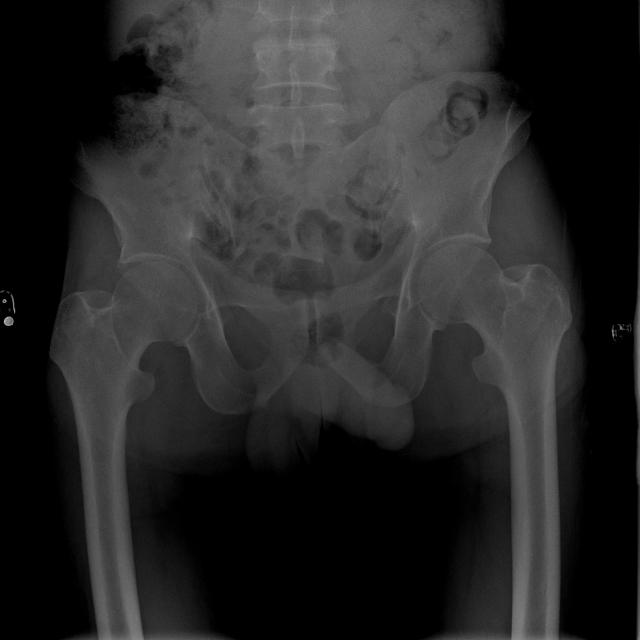normal-left: (416, 244, 573, 504)
normal-right: (49, 261, 199, 506)
